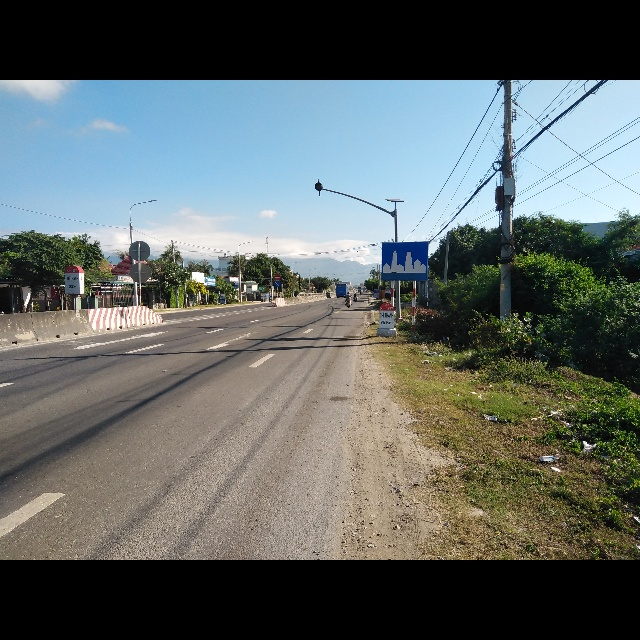Khu đông dân cư: (380, 240, 428, 280)
